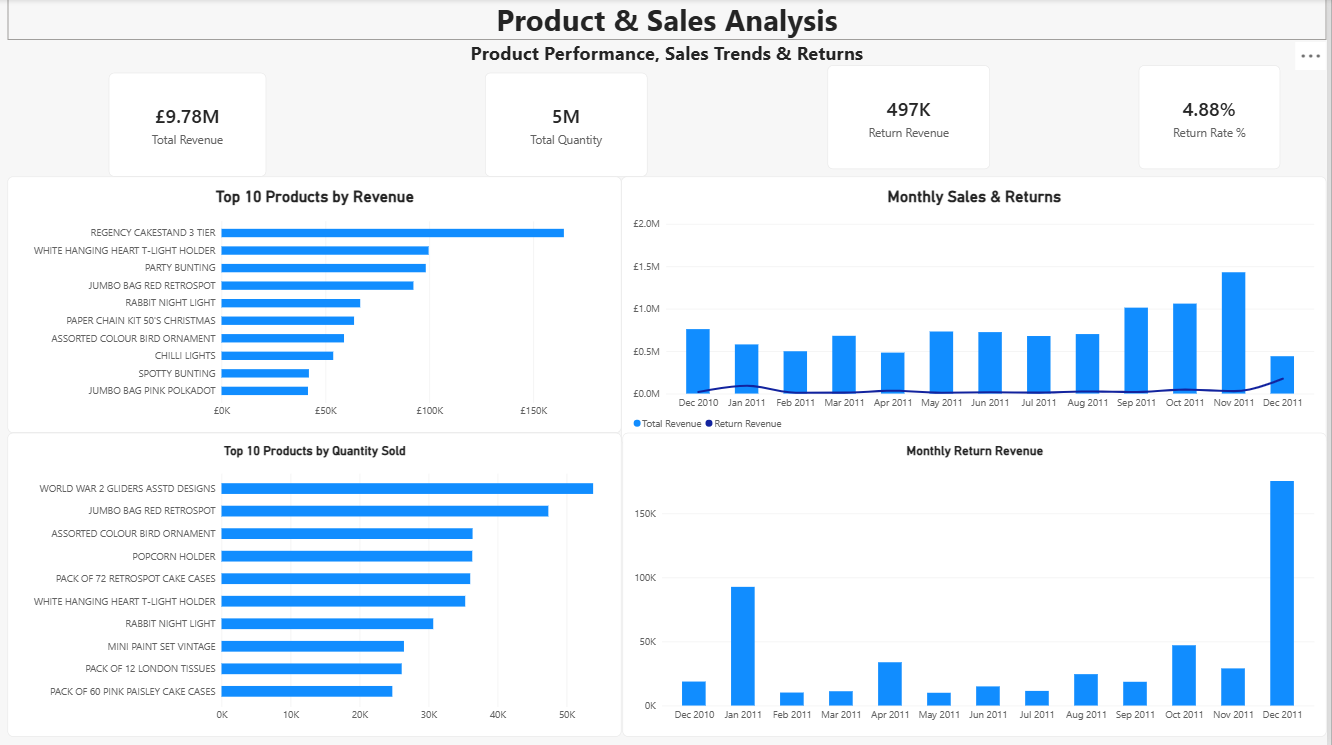

The dashboard page shown, as its layout file describes it:
{"tool":"powerbi","page":{"name":"Product & Sales Analysis","canvas":[1920,1080],"ordinal":2},"visuals":[{"type":"textbox","box":[10.9,0,1909.2,59.7],"z":0},{"type":"textbox","box":[10.9,0,1909.2,59.7],"z":1000},{"type":"textbox","box":[10.9,59.7,1909.2,36.2],"z":2000},{"type":"card","fields":{"Values":["sales_clean.Total Revenue"]},"box":[157.4,106.8,228,150.2],"z":3000},{"type":"card","fields":{"Values":["sales_clean.Total Quantity"]},"box":[702.1,106.8,235.3,150.2],"z":4000},{"type":"card","fields":{"Values":["sales_clean.Return Revenue"]},"box":[1198,95.9,235.3,150.2],"z":5000},{"type":"card","fields":{"Values":["sales_clean.Return Rate %"]},"box":[1648.6,95.9,204.5,150.2],"z":6000},{"type":"clusteredBarChart","title":"Top 10 Products by Revenue","fields":{"Category":["sales_clean.Description"],"Y":["sales_clean.Total Revenue"]},"box":[10.9,257,888.5,371],"z":7000},{"type":"lineClusteredColumnComboChart","title":"Monthly Sales & Returns","fields":{"Category":["Date Table.Month Year"],"Y":["sales_clean.Total Revenue"],"Y2":["sales_clean.Return Revenue"]},"box":[899.4,257,1020.6,389.1],"z":8000},{"type":"clusteredBarChart","title":"Top 10 Products by Quantity Sold","fields":{"Category":["sales_clean.Description"],"Y":["sales_clean.Total Quantity"]},"box":[10.9,628,888.5,439.7],"z":9000},{"type":"clusteredColumnChart","title":"Monthly Return Revenue","fields":{"Category":["Date Table.Month Year"],"Y":["sales_clean.Return Revenue"]},"box":[901.2,628,1018.8,439.7],"z":10000}]}

Visuals, with their boxes in screenshot pixels (x1, y1, x2, y2), scaled from the page's 1920x1080 canvas onto the 1332x745 screenshot:
textbox: BBox(8, 0, 1331, 41)
textbox: BBox(8, 0, 1331, 41)
textbox: BBox(8, 41, 1331, 66)
card - sales_clean.Total Revenue: BBox(109, 74, 267, 177)
card - sales_clean.Total Quantity: BBox(487, 74, 650, 177)
card - sales_clean.Return Revenue: BBox(831, 66, 994, 170)
card - sales_clean.Return Rate %: BBox(1144, 66, 1286, 170)
"Top 10 Products by Revenue" clusteredBarChart: BBox(8, 177, 624, 433)
"Monthly Sales & Returns" lineClusteredColumnComboChart: BBox(624, 177, 1331, 446)
"Top 10 Products by Quantity Sold" clusteredBarChart: BBox(8, 433, 624, 737)
"Monthly Return Revenue" clusteredColumnChart: BBox(625, 433, 1331, 737)
